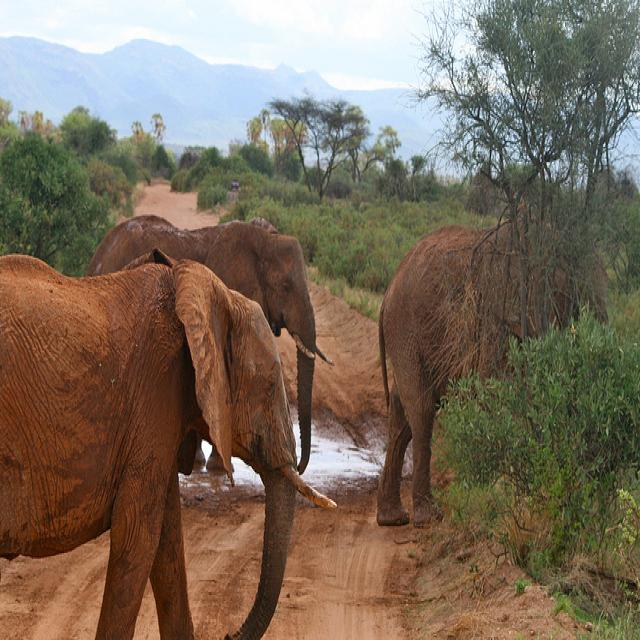Elephant: (0, 251, 337, 638), (375, 211, 609, 528), (85, 213, 334, 478)
